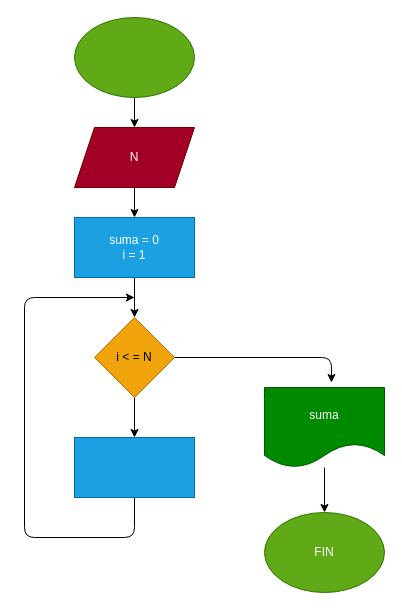
The diagram is 402 pixels wide and 610 high, and some of its shapes have lost their labels. The centre of each missing label's shape, as x and y in pixels:
INCIO: (x=134, y=57)
suma = suma + i i = i +1: (x=134, y=467)
